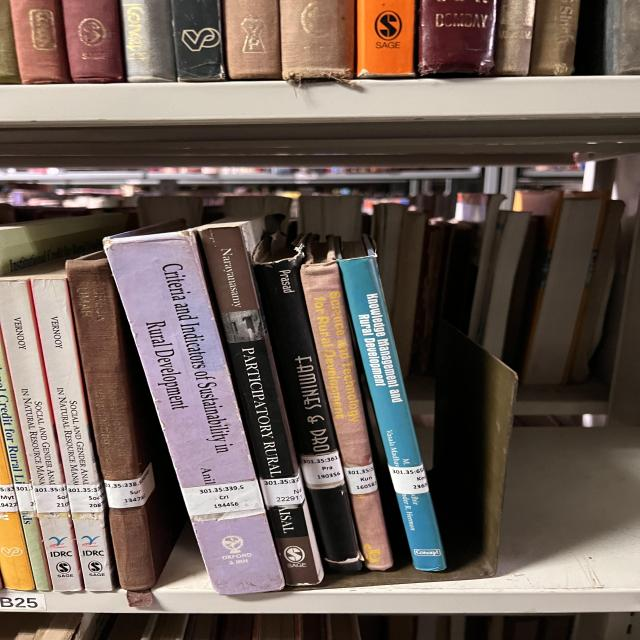Book: (105, 230, 285, 594), (198, 219, 323, 585), (65, 251, 185, 605), (253, 240, 363, 571), (338, 249, 447, 571), (300, 236, 393, 570), (30, 275, 115, 591), (0, 276, 83, 591), (0, 339, 52, 590), (0, 431, 33, 590)
Label: (182, 480, 263, 516), (105, 464, 155, 509), (300, 451, 343, 489), (260, 474, 305, 508), (388, 465, 428, 495), (32, 485, 70, 514), (343, 464, 378, 495), (67, 484, 105, 512), (13, 484, 37, 511), (0, 484, 18, 512)
